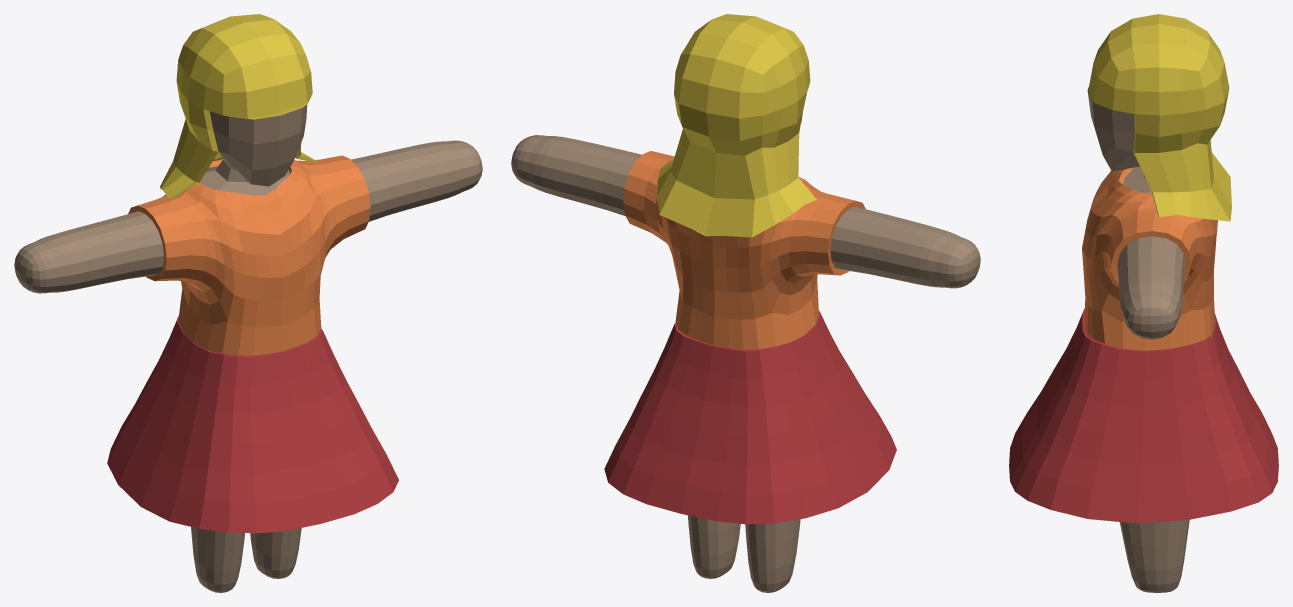
File: Mod1.glb
3 views of the same model, side by side, from view 1: azimuth 30°, elevation 25°; view 2: azimuth 150°, elevation 25°; view 3: azimuth 270°, elevation 25° (orthographic).
Parts seen in each view (by area): view 1: Modelo 3a; view 2: Modelo 3a; view 3: Modelo 3a.
Boxes of the visible parts, box(x1,y1,x2,y2) form: Modelo 3a: box(14, 14, 482, 592); Modelo 3a: box(511, 14, 980, 592); Modelo 3a: box(1009, 14, 1278, 592).
Size of the model in its own units: 7.96 by 9.24 by 4.11.
